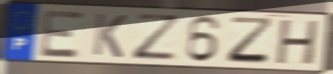6: (185, 14, 222, 64)
E: (39, 9, 87, 60)
H: (274, 19, 322, 67)
K: (90, 12, 129, 60)
Z: (225, 15, 277, 66), (131, 12, 184, 62)
